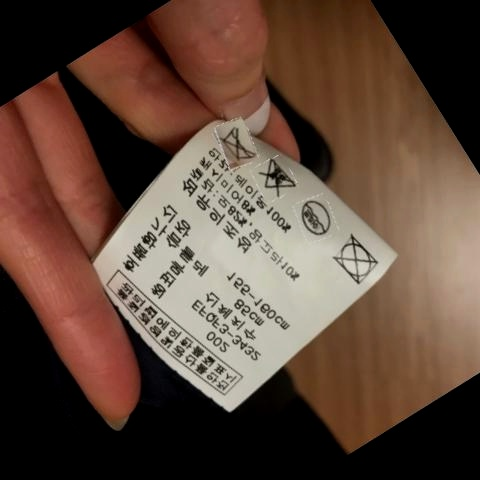DN_dry_clean: (295, 198, 332, 237)
DN_tumble_dry: (331, 238, 376, 282)
DN_wash: (217, 125, 254, 165)
non_chlorine_bleach: (262, 159, 295, 194)
